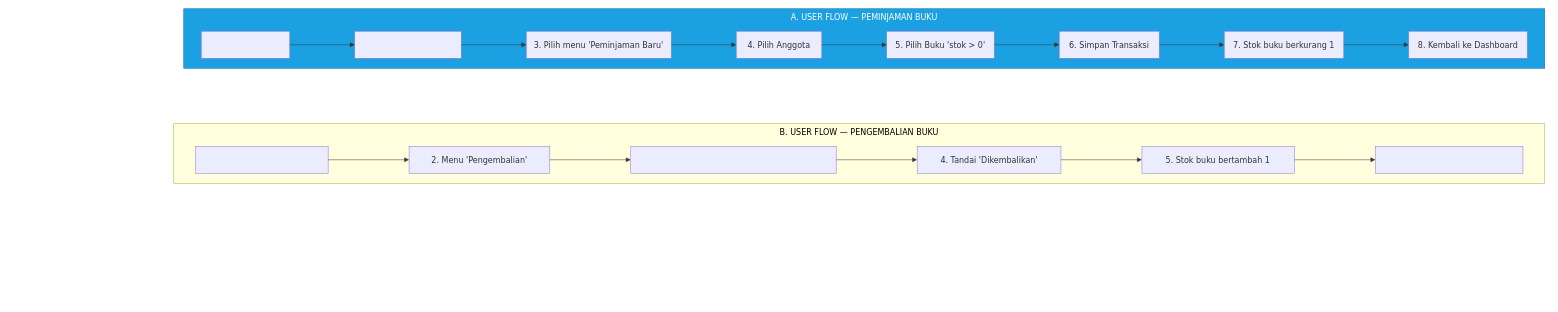
The diagram is 1558 pixels wide and 312 high, and some of its shapes have lost their labels. The shapes that lost their labels are listed below. From the top down, each one's centre as x and y in pixels, then its label:
At [245,44]: "1. Petugas Login".
At [407,44]: "2. Dashboard Petugas".
At [261,159]: "1. Dashboard Petugas".
At [733,159]: "3. Cari transaksi aktif (anggota/buku)".
At [1449,159]: "6. Kembali ke Dashboard".
